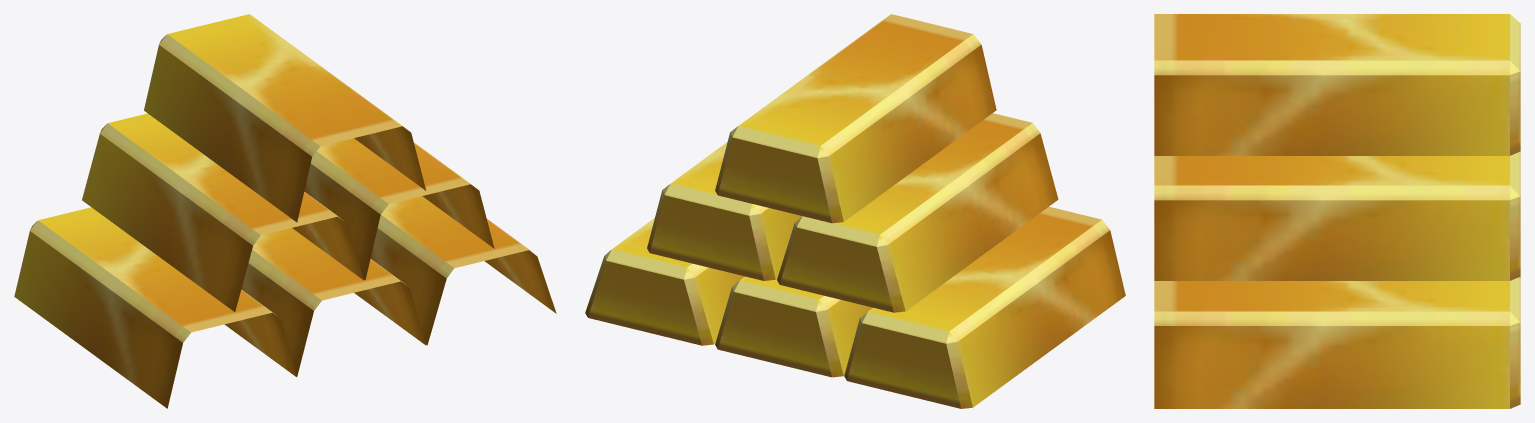
Rendered from [GIMMICK]bar_gold (merge).fbx.
The picture shows the model from 3 angles, left to right: view 1: azimuth 30°, elevation 25°; view 2: azimuth 150°, elevation 25°; view 3: azimuth 270°, elevation 25°; orthographic projection. The views are drawn at different scales.
Visible parts, largest first — view 1: [GIMMICK]bar_gold; view 2: [GIMMICK]bar_gold; view 3: [GIMMICK]bar_gold.
Boxes of the visible parts, x1,y1,x2,y2 form: [GIMMICK]bar_gold: (14,14,556,408); [GIMMICK]bar_gold: (585,14,1125,408); [GIMMICK]bar_gold: (1154,14,1520,408).
Size of the model in its own units: 0.759 by 0.42 by 0.5332.
Materials: 1 (1 with a texture image).
